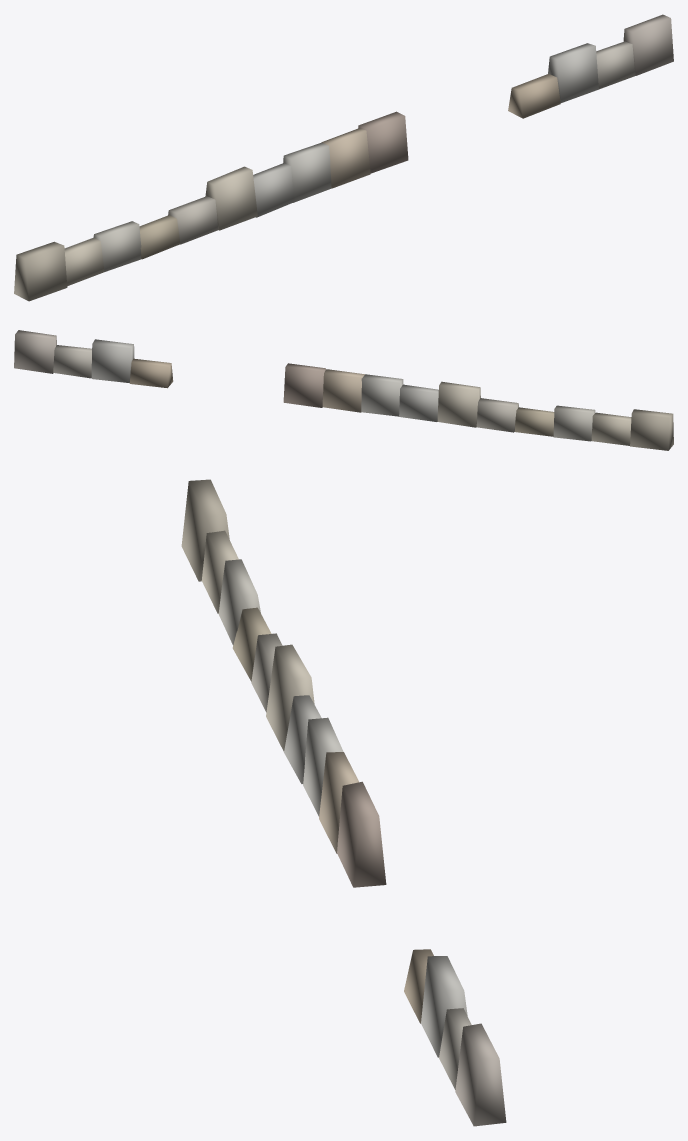
Rendered from farm_13_17_far.glb.
3 renders of one model, top to bottom at view 1: azimuth 30°, elevation 25°; view 2: azimuth 150°, elevation 25°; view 3: azimuth 270°, elevation 25°, orthographic. The views are drawn at different scales.
Visible parts, largest first — view 1: geometry_0; view 2: geometry_0; view 3: geometry_0.
Boxes of the visible parts, bbox=[...] form: geometry_0: bbox=[14, 14, 673, 301]; geometry_0: bbox=[14, 330, 673, 450]; geometry_0: bbox=[181, 479, 506, 1126].
Size of the model in its own units: 25.92 by 1.67 by 6.24.
